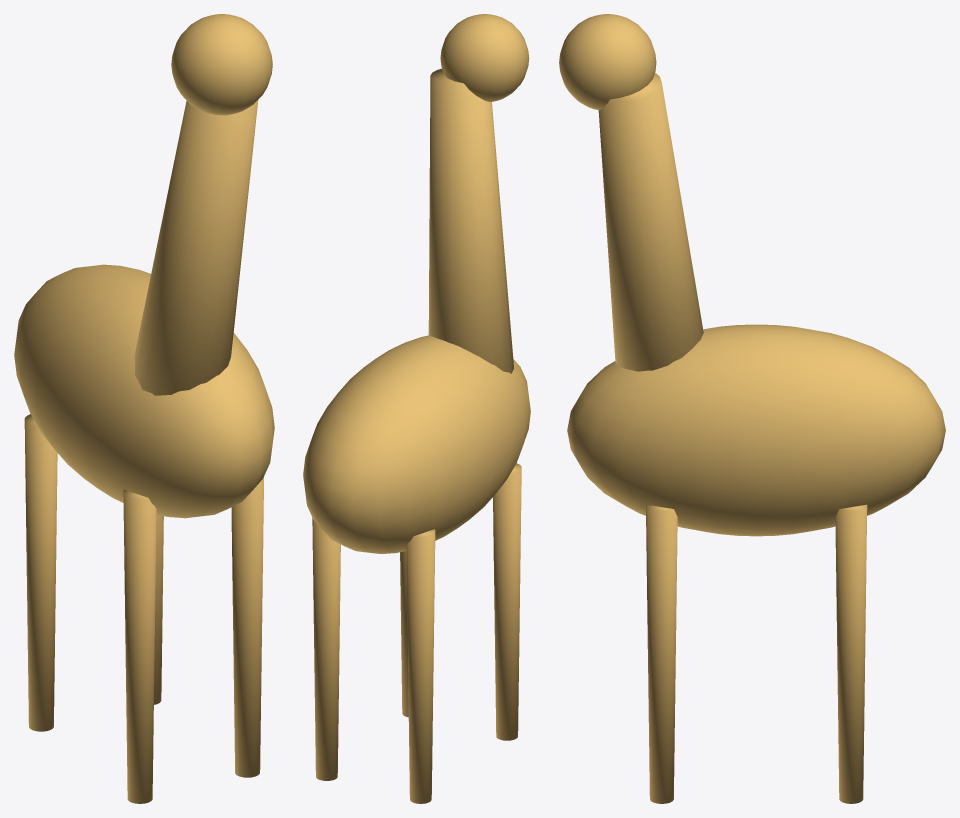
The model's file is giraffe.glb.
The picture shows the model from 3 angles, left to right: view 1: azimuth 30°, elevation 25°; view 2: azimuth 150°, elevation 25°; view 3: azimuth 270°, elevation 25°; orthographic projection. The views are drawn at different scales.
Parts seen in each view (by area): view 1: body, neck, leg_-0.22_0.35, leg_-0.22_-0.35, leg_0.22_0.35, head, leg_0.22_-0.35; view 2: body, neck, leg_-0.22_-0.35, leg_-0.22_0.35, leg_0.22_-0.35, head, leg_0.22_0.35; view 3: body, neck, leg_0.22_0.35, leg_0.22_-0.35, head.
Part boxes in pixels (x1=…): body: x1=14, y1=264, x2=274, y2=518; neck: x1=134, y1=100, x2=258, y2=395; leg_-0.22_0.35: x1=123, y1=489, x2=156, y2=803; leg_-0.22_-0.35: x1=24, y1=414, x2=57, y2=731; leg_0.22_0.35: x1=231, y1=477, x2=263, y2=777; head: x1=171, y1=14, x2=272, y2=115; leg_0.22_-0.35: x1=154, y1=514, x2=163, y2=704; body: x1=303, y1=335, x2=530, y2=553; neck: x1=428, y1=68, x2=513, y2=373; leg_-0.22_-0.35: x1=406, y1=529, x2=435, y2=803; leg_-0.22_0.35: x1=493, y1=463, x2=521, y2=740; leg_0.22_-0.35: x1=312, y1=518, x2=340, y2=780; head: x1=440, y1=14, x2=529, y2=101; leg_0.22_0.35: x1=400, y1=551, x2=408, y2=717; body: x1=567, y1=324, x2=945, y2=536; neck: x1=598, y1=73, x2=703, y2=371; leg_0.22_0.35: x1=646, y1=504, x2=677, y2=803; leg_0.22_-0.35: x1=835, y1=504, x2=867, y2=803; head: x1=559, y1=14, x2=656, y2=110.
Bounding box in the file's own units: 0.7 × 3.08 × 1.43.
